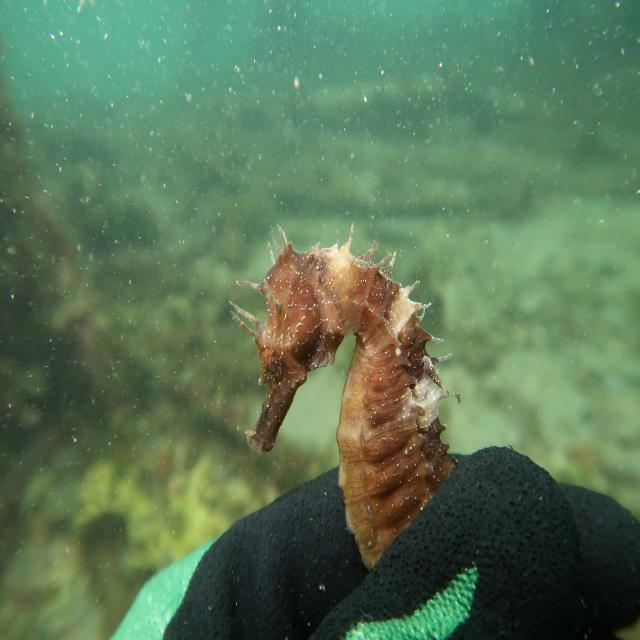Guttu: (235, 240, 343, 462)
